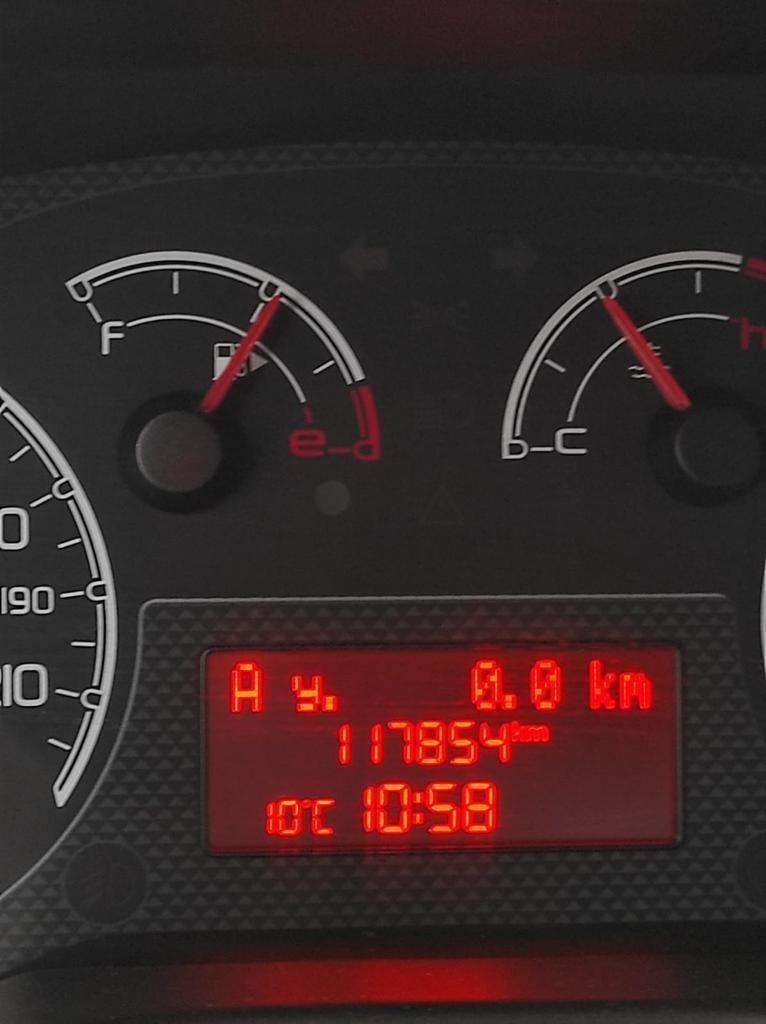,: (323, 692, 339, 713), (502, 692, 517, 712)
0: (375, 779, 411, 836), (527, 657, 562, 713), (468, 657, 502, 712), (277, 795, 301, 838)
1: (336, 719, 351, 771), (361, 782, 374, 841), (368, 719, 383, 769), (264, 797, 275, 840)
4: (479, 720, 509, 764)
5: (425, 778, 460, 834), (448, 715, 476, 768)
7: (386, 716, 415, 767)
8: (461, 778, 498, 835), (416, 715, 446, 766)
X: (228, 660, 264, 713), (586, 655, 616, 714), (617, 668, 652, 711), (290, 671, 322, 715), (312, 795, 338, 840), (527, 721, 551, 743), (414, 783, 424, 831), (510, 716, 526, 745)
odometer: (196, 635, 689, 859)
